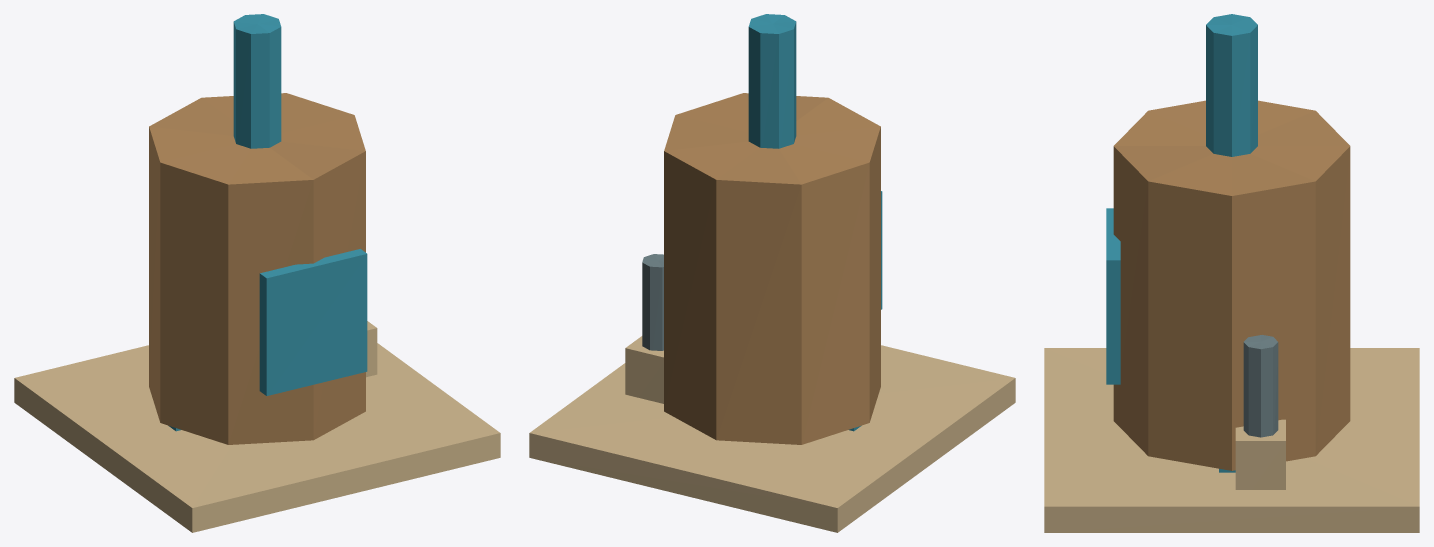
The model's file is biochar-kiln.source.glb.
The picture shows the model from 3 angles, left to right: view 1: azimuth 30°, elevation 25°; view 2: azimuth 150°, elevation 25°; view 3: azimuth 270°, elevation 25°; orthographic projection. The views are drawn at different scales.
Parts seen in each view (by area): view 1: biochar-kiln-vertical-kiln-vessel-mesh, biochar-kiln-stone-pad-mesh, biochar-kiln-sealed-kiln-door-mesh, biochar-kiln-chimney-mesh, biochar-kiln-service-tank-mesh; view 2: biochar-kiln-vertical-kiln-vessel-mesh, biochar-kiln-stone-pad-mesh, biochar-kiln-chimney-mesh, biochar-kiln-cooling-pipe-mesh, biochar-kiln-service-tank-mesh; view 3: biochar-kiln-vertical-kiln-vessel-mesh, biochar-kiln-stone-pad-mesh, biochar-kiln-chimney-mesh, biochar-kiln-cooling-pipe-mesh, biochar-kiln-service-tank-mesh, biochar-kiln-sealed-kiln-door-mesh.
Part boxes in pixels (left/top/right/bottom): biochar-kiln-vertical-kiln-vessel-mesh: left=149, top=93, right=365, bottom=444; biochar-kiln-stone-pad-mesh: left=14, top=343, right=500, bottom=532; biochar-kiln-sealed-kiln-door-mesh: left=259, top=249, right=367, bottom=395; biochar-kiln-chimney-mesh: left=233, top=14, right=281, bottom=148; biochar-kiln-service-tank-mesh: left=366, top=321, right=377, bottom=377; biochar-kiln-vertical-kiln-vessel-mesh: left=664, top=93, right=880, bottom=444; biochar-kiln-stone-pad-mesh: left=529, top=345, right=1015, bottom=532; biochar-kiln-chimney-mesh: left=748, top=14, right=796, bottom=148; biochar-kiln-cooling-pipe-mesh: left=642, top=254, right=663, bottom=350; biochar-kiln-service-tank-mesh: left=625, top=336, right=663, bottom=403; biochar-kiln-vertical-kiln-vessel-mesh: left=1113, top=100, right=1350, bottom=470; biochar-kiln-stone-pad-mesh: left=1044, top=348, right=1419, bottom=532; biochar-kiln-chimney-mesh: left=1206, top=14, right=1257, bottom=156; biochar-kiln-cooling-pipe-mesh: left=1243, top=335, right=1278, bottom=437; biochar-kiln-service-tank-mesh: left=1235, top=419, right=1285, bottom=489; biochar-kiln-sealed-kiln-door-mesh: left=1106, top=208, right=1120, bottom=384.
Bounding box in the file's own units: 2.6 × 3.27 × 2.6.
